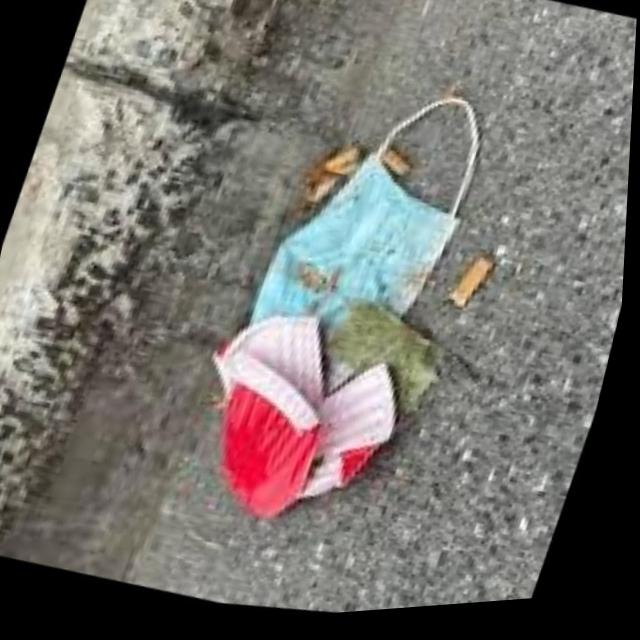cardboard: (216, 60, 507, 454)
leaf: (157, 296, 436, 570)
wood: (296, 143, 367, 219), (439, 250, 495, 328), (371, 146, 422, 189)
